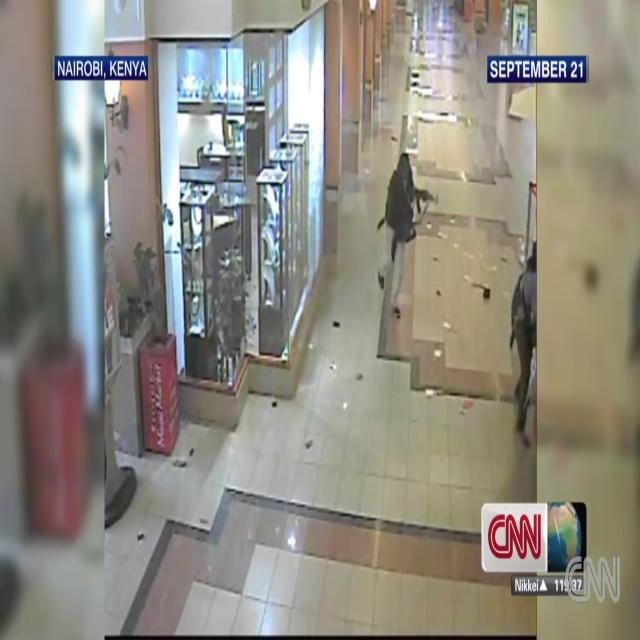Weapon: (396, 174, 448, 224)
